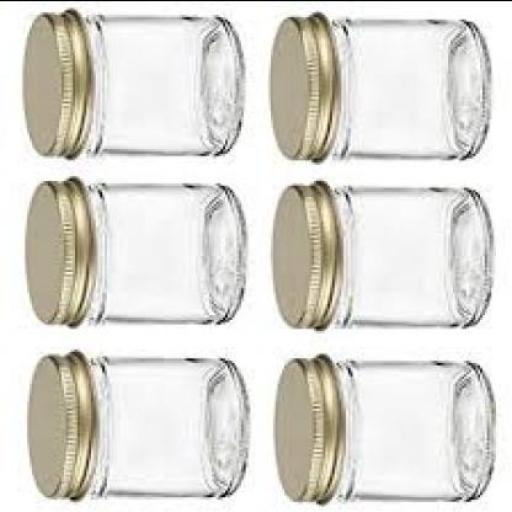glass: (326, 184, 492, 328), (323, 14, 492, 155), (82, 353, 248, 494), (84, 180, 244, 323), (332, 357, 492, 498), (82, 14, 239, 152)
metal: (270, 348, 342, 501), (22, 173, 94, 325), (269, 178, 341, 328), (20, 2, 87, 157), (22, 348, 91, 496), (268, 9, 335, 157)
